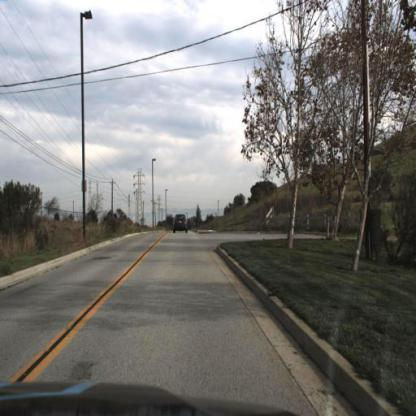car: (174, 211, 190, 238)
